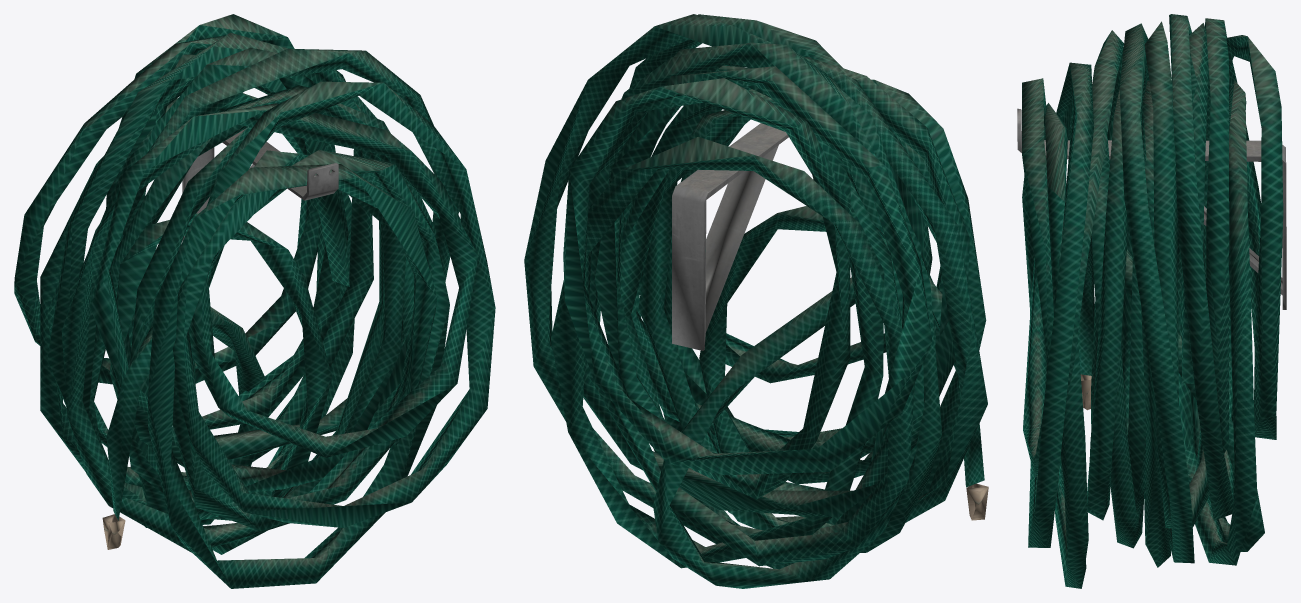
Rendered from GardenHoseWallMountedLOD2.fbx.
3 views of the same model, side by side, from view 1: azimuth 30°, elevation 25°; view 2: azimuth 150°, elevation 25°; view 3: azimuth 270°, elevation 25° (orthographic). The views are drawn at different scales.
Parts seen in each view (by area): view 1: garden_hose, garden_hose_wall_bracket; view 2: garden_hose, garden_hose_wall_bracket; view 3: garden_hose, garden_hose_wall_bracket.
Part boxes in pixels (box(x1,y1,x2,y2)): garden_hose: box(14, 14, 495, 588); garden_hose_wall_bracket: box(182, 128, 338, 241); garden_hose: box(524, 14, 988, 588); garden_hose_wall_bracket: box(672, 123, 788, 350); garden_hose: box(1022, 14, 1283, 588); garden_hose_wall_bracket: box(1017, 108, 1286, 309).
Bounding box in the file's own units: 46.57 × 56.04 × 25.03.
Materials: 1 (1 with a texture image).
